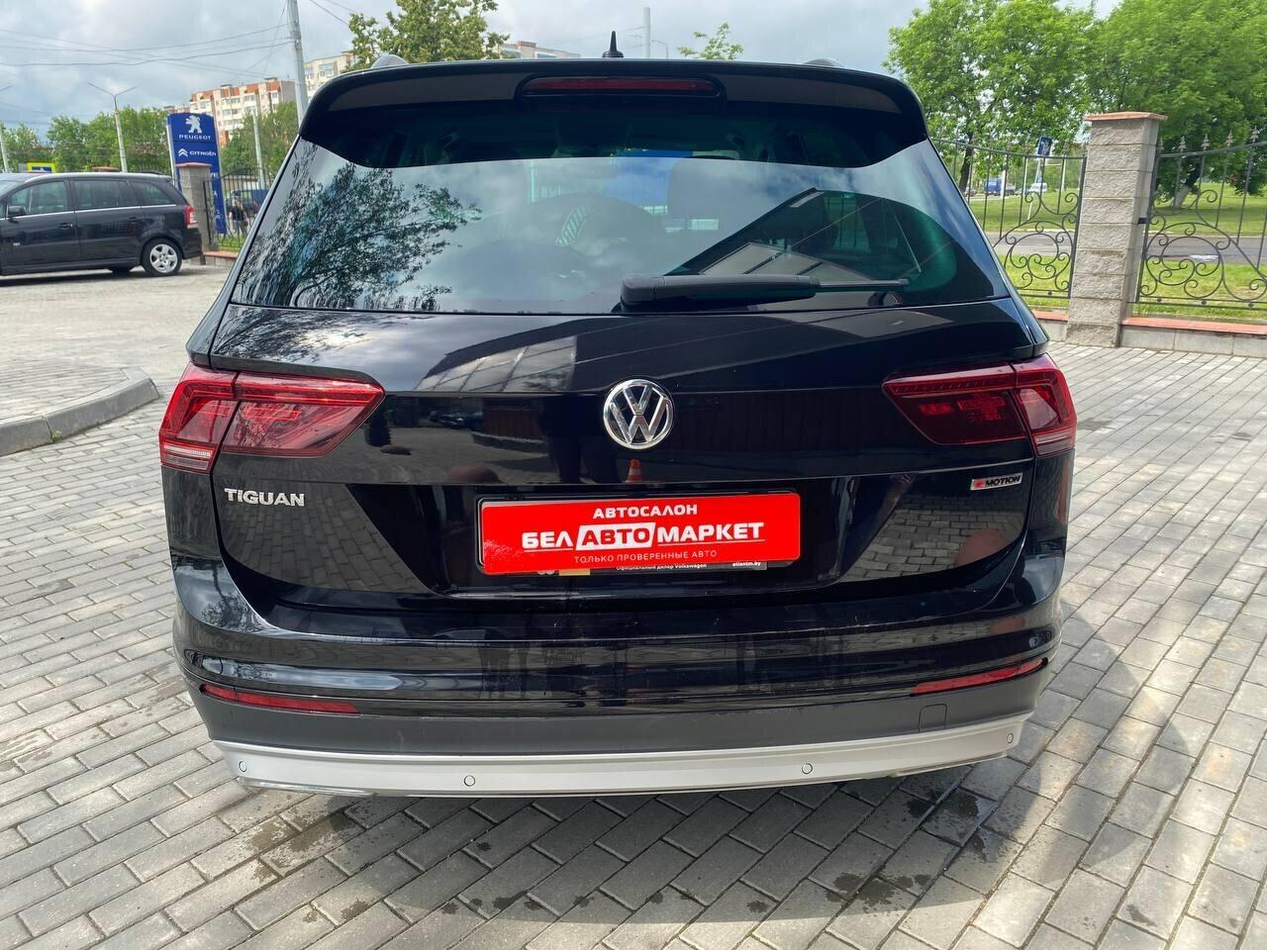Tiguan_2016-2021: (152, 46, 1075, 809)
